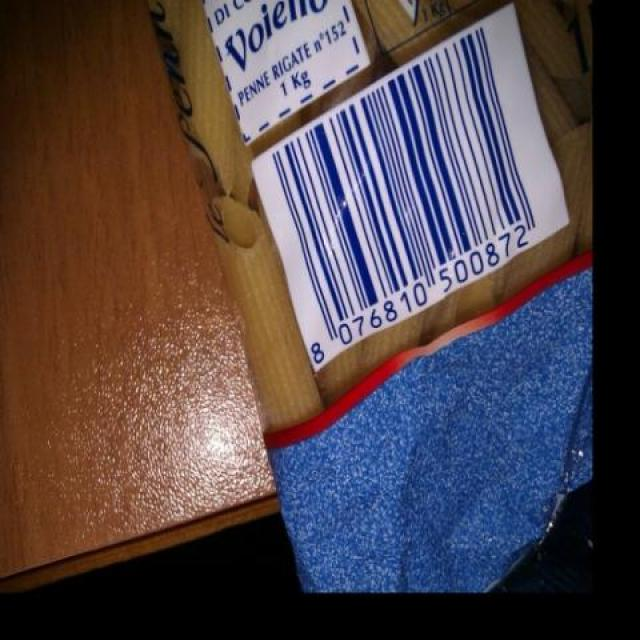Barcode: (250, 18, 566, 383)
